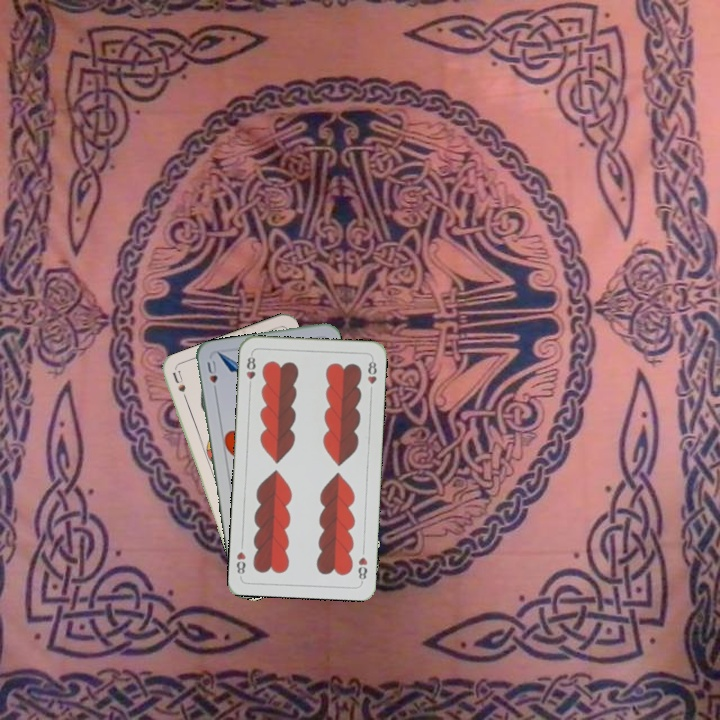H8: (242, 350, 258, 390), (354, 553, 370, 584)
HU: (203, 356, 220, 396)
SU: (168, 367, 191, 407)
